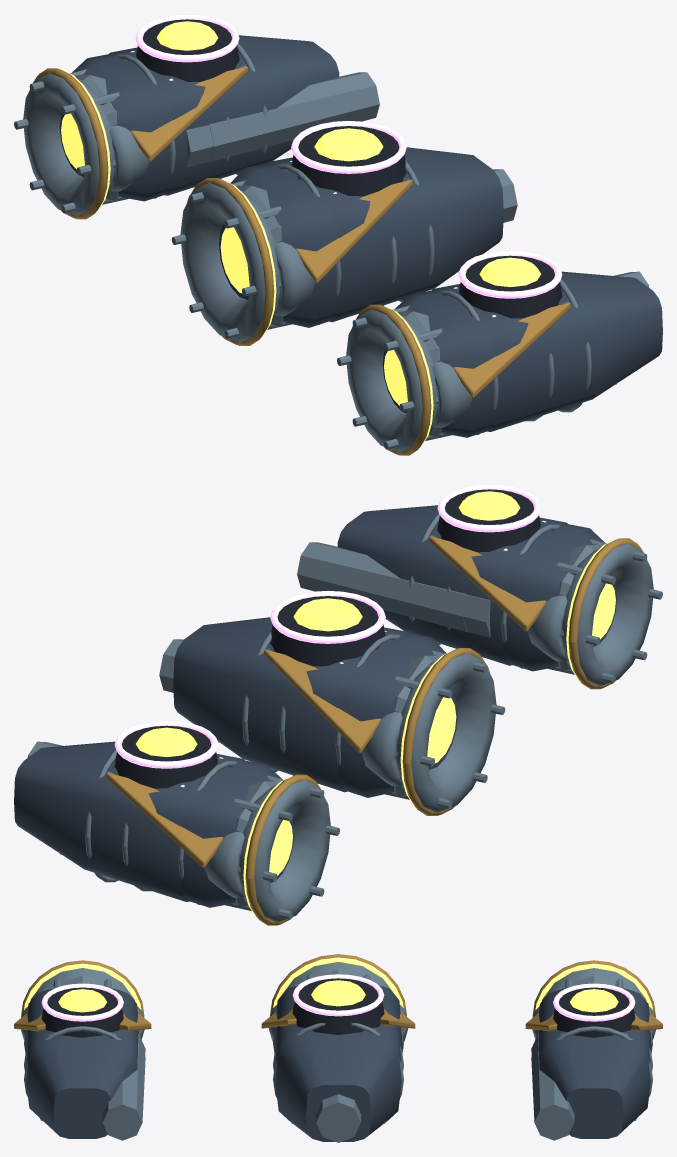
The model's file is engine.glb.
3 renders of one model, top to bottom at view 1: azimuth 30°, elevation 25°; view 2: azimuth 150°, elevation 25°; view 3: azimuth 270°, elevation 25°, orthographic. The views are drawn at different scales.
Parts seen in each view (by area): view 1: e_twin Fitting gunmetal, e_nova Brushed fitting edges, e_nova Fitting gunmetal, e_twin Brushed fitting edges, e_nova Champagne gold edging, e_fusion Machined graphite, e_fusion e_fusion emitter, e_fusion Fusion amber core, e_nova e_nova emitter, e_ion Brushed fitting edges, e_fusion Brushed fitting edges; view 2: e_twin Fitting gunmetal, e_nova Brushed fitting edges, e_nova Fitting gunmetal, e_twin Brushed fitting edges, e_nova Champagne gold edging, e_fusion Machined graphite, e_fusion e_fusion emitter, e_fusion Fusion amber core, e_nova e_nova emitter, e_ion Brushed fitting edges, e_fusion Brushed fitting edges; view 3: e_twin Fitting gunmetal, e_twin Brushed fitting edges, e_fusion Machined graphite, e_nova Champagne gold edging, e_fusion e_fusion emitter, e_nova Brushed fitting edges, e_fusion Fusion amber core, e_nova e_nova emitter, e_ion Brushed fitting edges, e_nova Fitting gunmetal, e_fusion Brushed fitting edges.
Boxes of the visible parts, left/top/right/bottom form: e_twin Fitting gunmetal: left=108, top=35, right=662, bottom=431; e_nova Brushed fitting edges: left=14, top=69, right=451, bottom=452; e_nova Fitting gunmetal: left=59, top=54, right=495, bottom=437; e_twin Brushed fitting edges: left=109, top=65, right=649, bottom=427; e_nova Champagne gold edging: left=33, top=66, right=570, bottom=455; e_fusion Machined graphite: left=136, top=19, right=562, bottom=318; e_fusion e_fusion emitter: left=135, top=14, right=562, bottom=298; e_fusion Fusion amber core: left=156, top=21, right=540, bottom=287; e_nova e_nova emitter: left=61, top=69, right=433, bottom=446; e_ion Brushed fitting edges: left=117, top=43, right=591, bottom=434; e_fusion Brushed fitting edges: left=75, top=75, right=617, bottom=437; e_twin Fitting gunmetal: left=14, top=505, right=567, bottom=901; e_nova Brushed fitting edges: left=225, top=539, right=662, bottom=922; e_nova Fitting gunmetal: left=180, top=524, right=617, bottom=907; e_twin Brushed fitting edges: left=27, top=535, right=567, bottom=897; e_nova Champagne gold edging: left=106, top=536, right=643, bottom=925; e_fusion Machined graphite: left=114, top=489, right=540, bottom=788; e_fusion e_fusion emitter: left=114, top=484, right=541, bottom=768; e_fusion Fusion amber core: left=136, top=491, right=520, bottom=757; e_nova e_nova emitter: left=243, top=539, right=615, bottom=916; e_ion Brushed fitting edges: left=85, top=513, right=559, bottom=904; e_fusion Brushed fitting edges: left=59, top=545, right=601, bottom=907; e_twin Fitting gunmetal: left=25, top=996, right=651, bottom=1141; e_twin Brushed fitting edges: left=21, top=1005, right=655, bottom=1142; e_fusion Machined graphite: left=41, top=978, right=635, bottom=1037; e_nova Champagne gold edging: left=14, top=954, right=662, bottom=1031; e_fusion e_fusion emitter: left=41, top=974, right=635, bottom=1021; e_nova Brushed fitting edges: left=30, top=962, right=646, bottom=1056; e_fusion Fusion amber core: left=58, top=980, right=618, bottom=1012; e_nova e_nova emitter: left=24, top=957, right=652, bottom=1009; e_ion Brushed fitting edges: left=24, top=1023, right=652, bottom=1098; e_nova Fitting gunmetal: left=27, top=985, right=649, bottom=1027; e_fusion Brushed fitting edges: left=40, top=969, right=636, bottom=1124.
Bounding box in the file's own units: 15.81 × 8.76 × 38.06.
